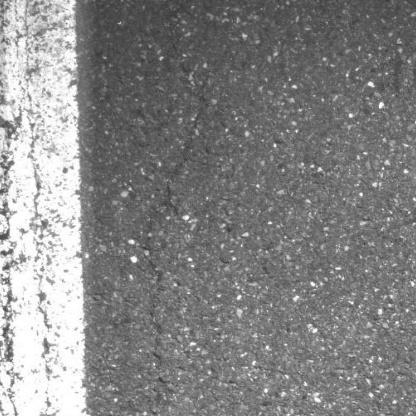Cracks: (138, 86, 212, 289), (146, 407, 165, 416)
